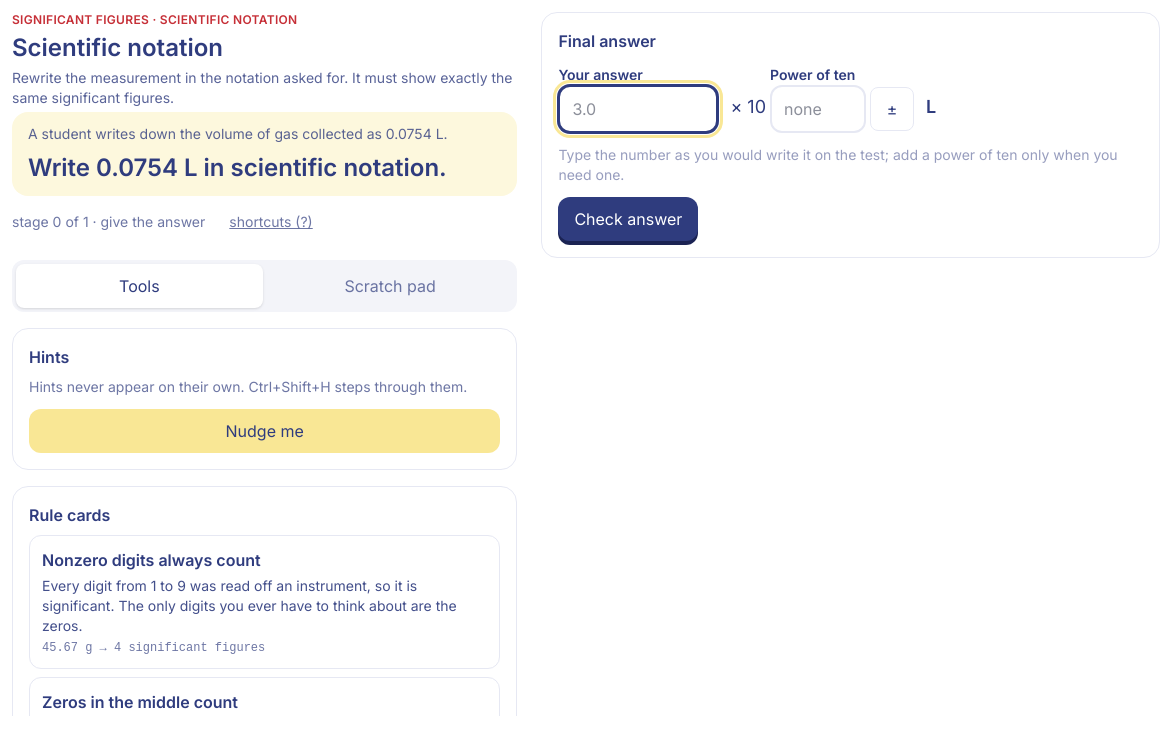
SigFigFlow: typed numeral answers › accepts the answer through the power-of-ten box and the ± button
Type "7.54" into the field labelled "Your answer" at (638, 109), box [558,85,718,133]
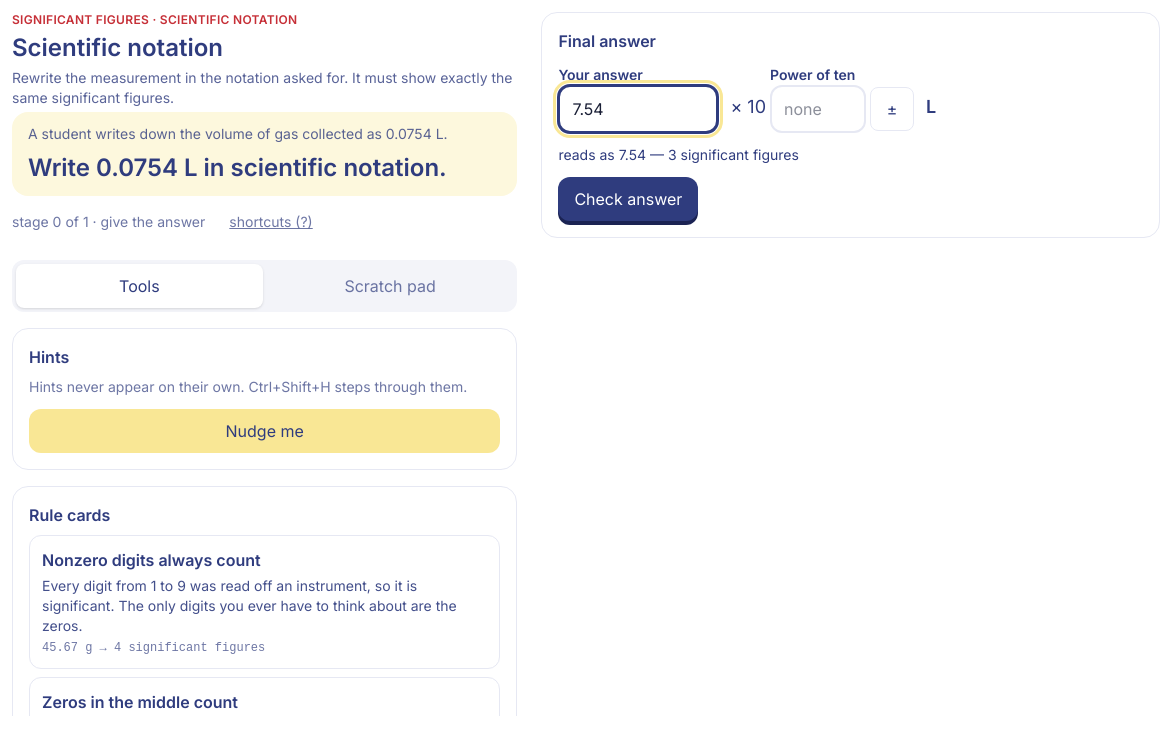
Type "2" into the field labelled "Power of ten" at (818, 109), box [770,85,866,133]
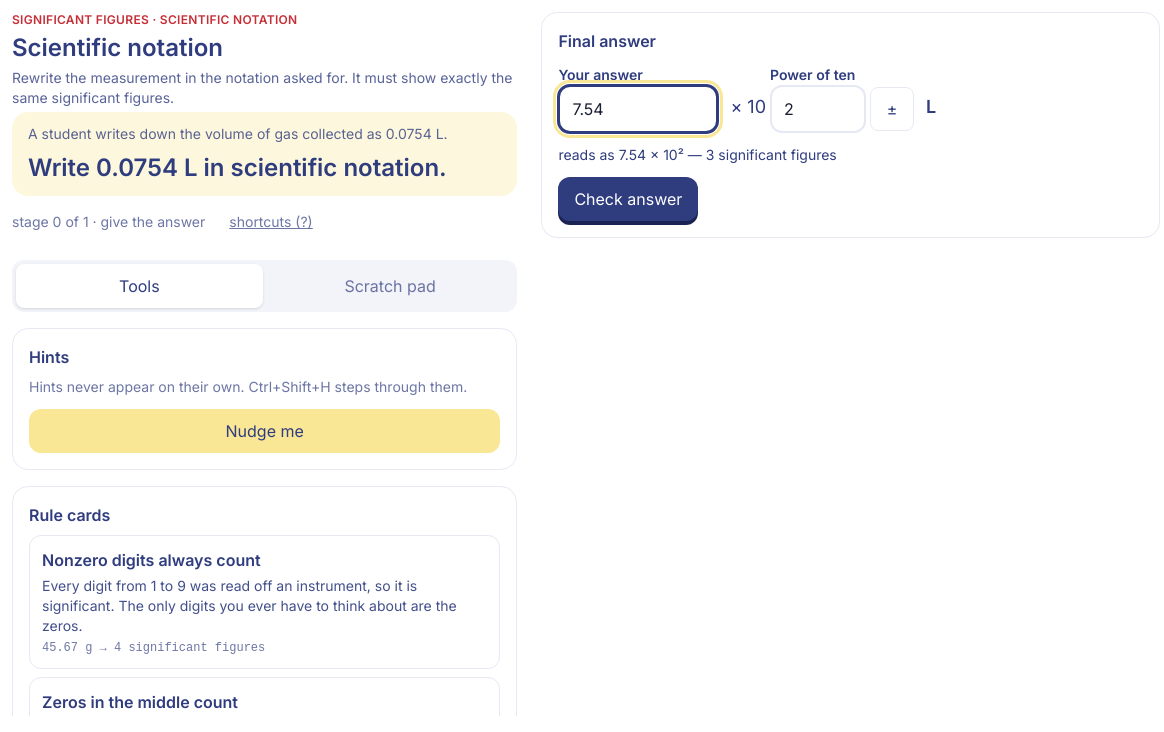
Result: the text "reads as 7.54 × 10² — 3 significant figures" is shown at [558,146,837,163]
Click the button named "Flip the sign of the power of ten" at (892, 109), box [870,87,914,131]
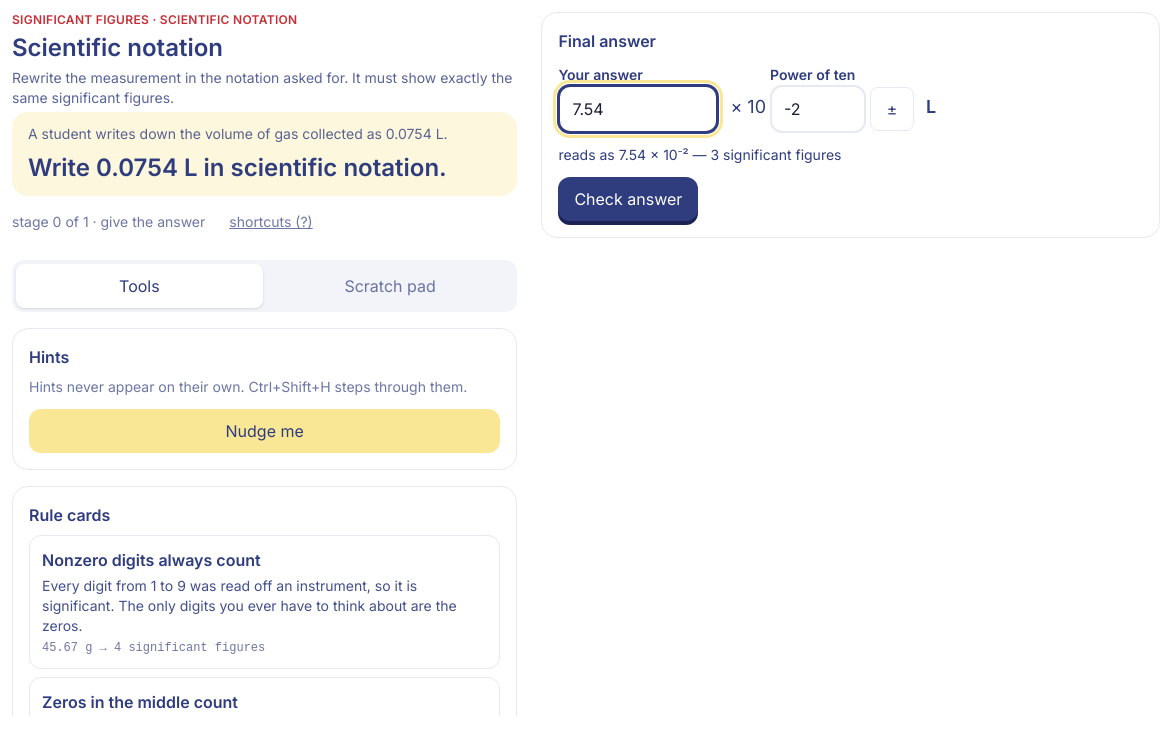
Result: the field labelled "Power of ten" holds "-2" at [770,85,866,133]
Result: the text "reads as 7.54 × 10⁻² — 3 significant figures" is shown at [558,146,842,163]
Click the button "Check answer" at (628, 199), box [558,177,698,221]
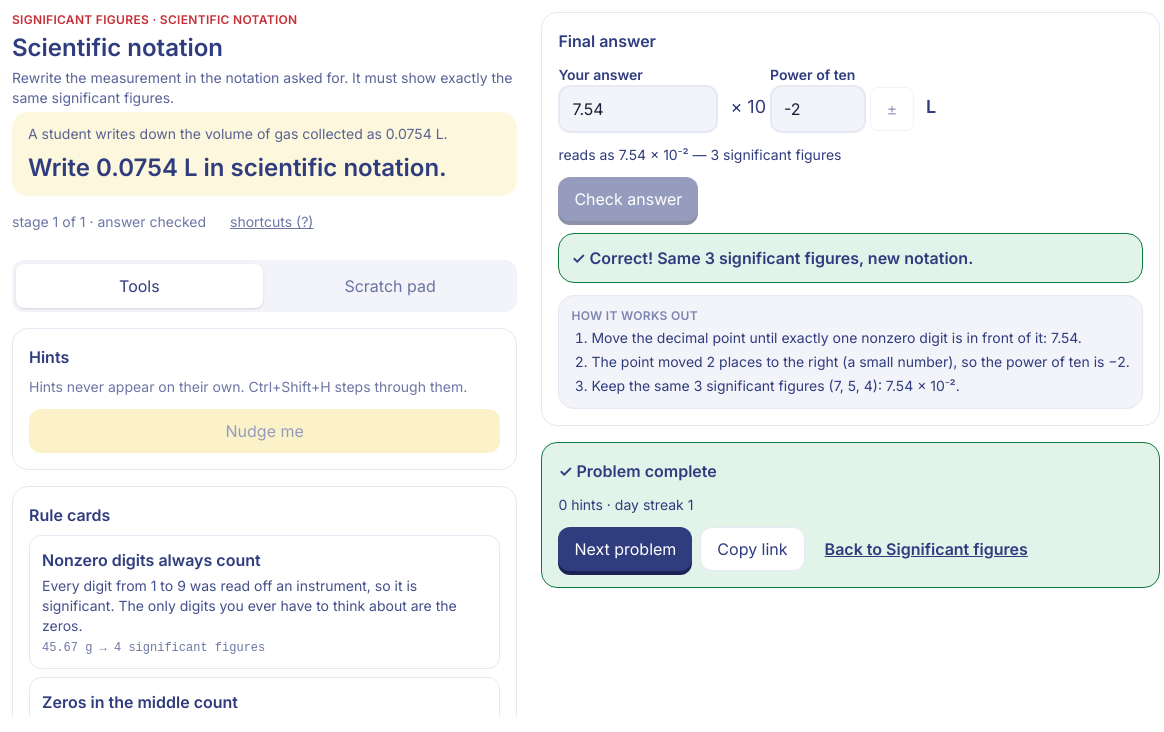
Result: the heading "✓ Problem complete" is shown at [558,461,717,481]
